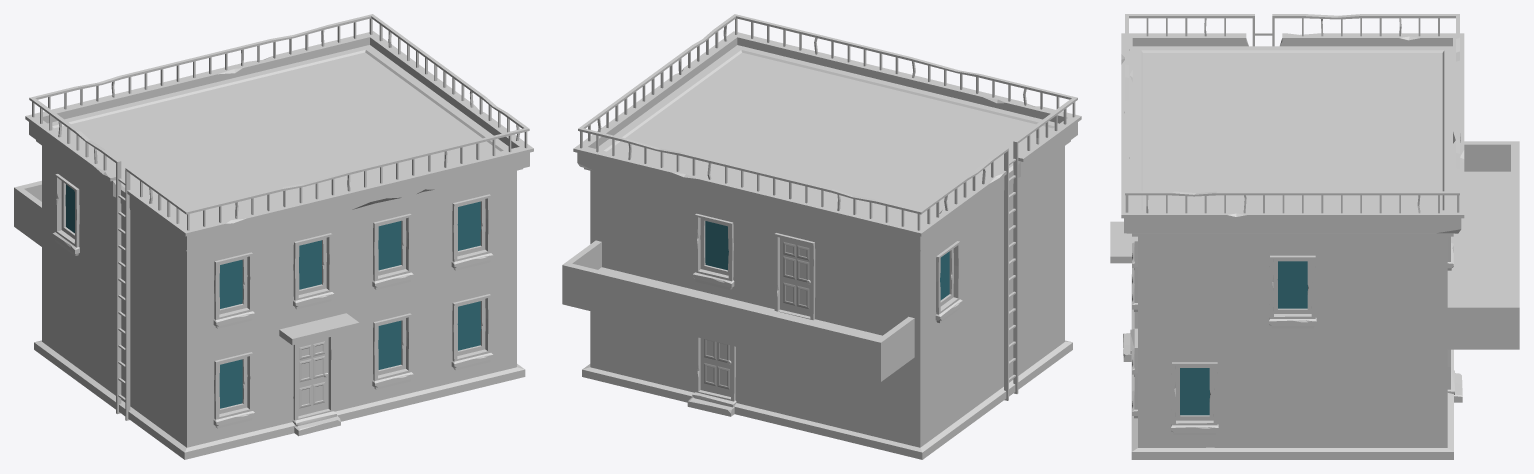
3 views of the same model, side by side, from view 1: azimuth 30°, elevation 25°; view 2: azimuth 150°, elevation 25°; view 3: azimuth 270°, elevation 25° (orthographic). The views are drawn at different scales.
Visible parts, largest first — view 1: SM_Bld_House_01, SM_Bld_House_01_Glass; view 2: SM_Bld_House_01, SM_Bld_House_01_Glass; view 3: SM_Bld_House_01, SM_Bld_House_01_Glass.
Part boxes in pixels (box(x1,y1,x2,y2)): SM_Bld_House_01: box(14, 14, 533, 459); SM_Bld_House_01_Glass: box(65, 184, 480, 408); SM_Bld_House_01: box(562, 14, 1081, 459); SM_Bld_House_01_Glass: box(705, 221, 949, 300); SM_Bld_House_01: box(1110, 14, 1519, 459); SM_Bld_House_01_Glass: box(1180, 261, 1307, 415).
Size of the model in its own units: 10.97 by 7.59 by 10.44.
